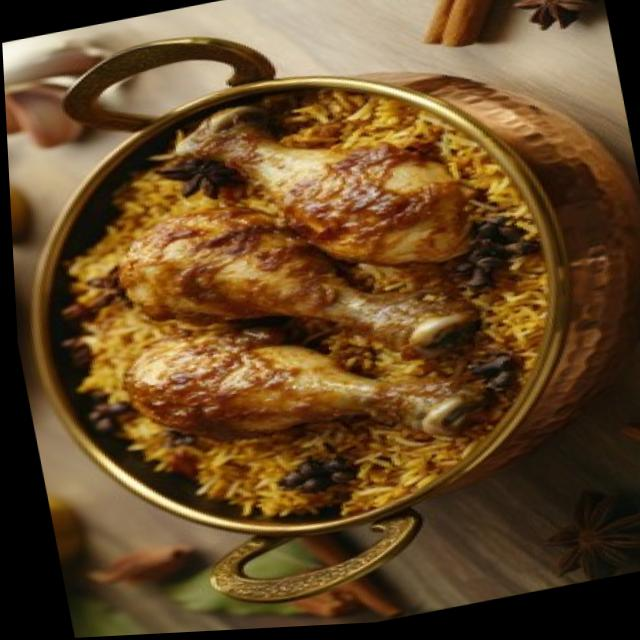BIRIYANI: (6, 11, 621, 589)
